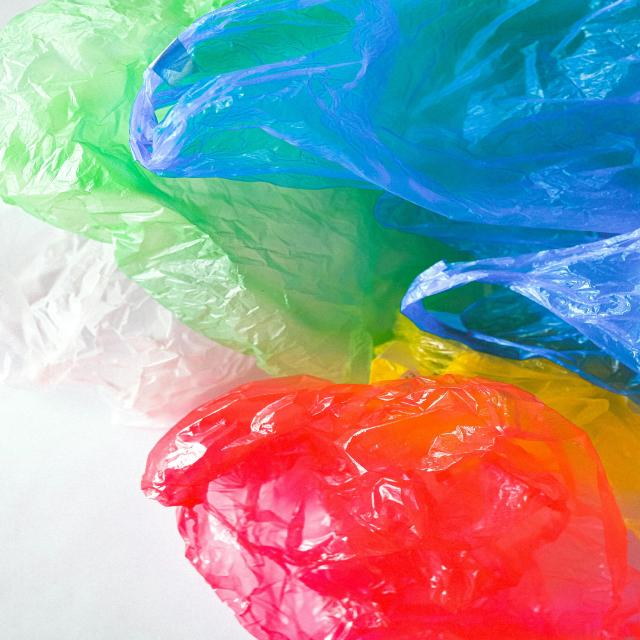Single-layer Plastic: (2, 0, 463, 382), (142, 374, 638, 640), (129, 0, 639, 258), (0, 204, 270, 428), (369, 315, 639, 535), (401, 230, 639, 400)
